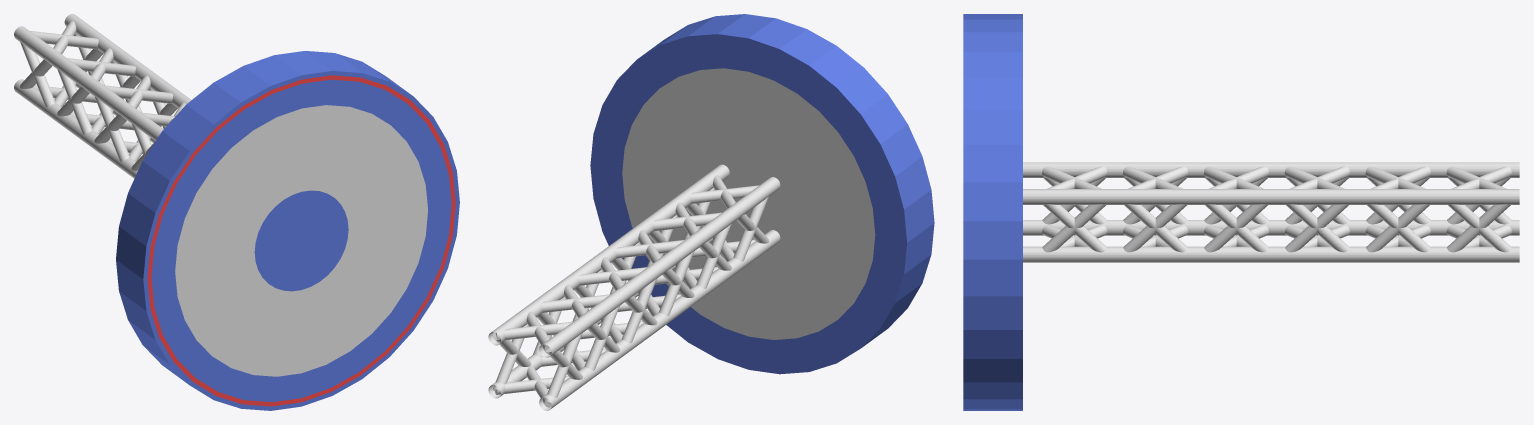
The model's file is Stadium.fbx.
3 views of the same model, side by side, from view 1: azimuth 30°, elevation 25°; view 2: azimuth 150°, elevation 25°; view 3: azimuth 270°, elevation 25° (orthographic). The views are drawn at different scales.
Parts seen in each view (by area): view 1: Cylinder.004; view 2: Cylinder.004; view 3: Cylinder.004.
Part boxes in pixels (bbox=[...]): Cylinder.004: bbox=[14, 14, 459, 410]; Cylinder.004: bbox=[488, 14, 934, 410]; Cylinder.004: bbox=[963, 14, 1519, 410].
Bounding box in the file's own units: 1000 × 1000 × 1400.
